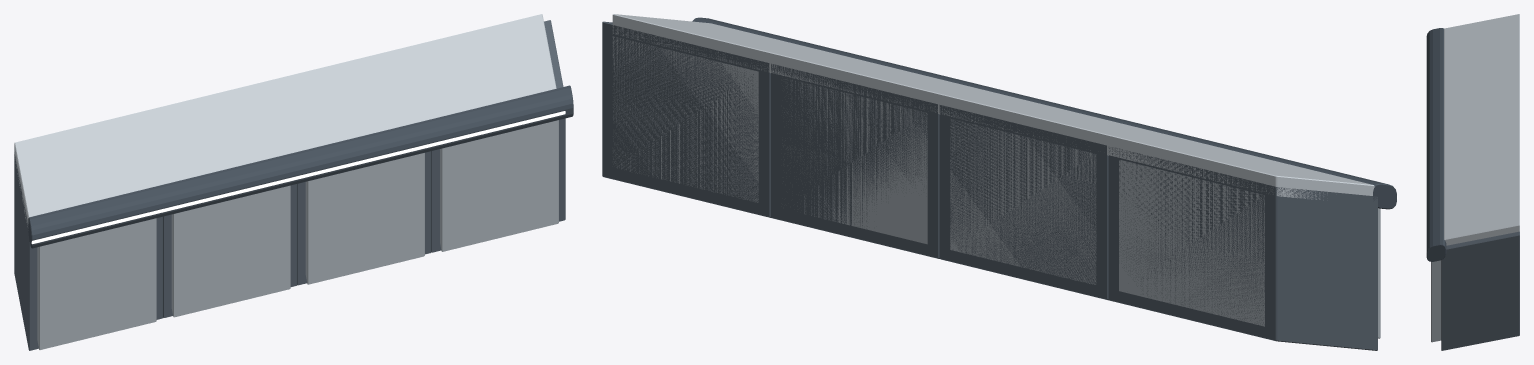
File: Terrain_TopRun4R.gltf
3 renders of one model, left to right at view 1: azimuth 30°, elevation 25°; view 2: azimuth 150°, elevation 25°; view 3: azimuth 270°, elevation 25°, orthographic. The views are drawn at different scales.
Visible parts, largest first — view 1: Terrain_TopRun4R_baked; view 2: Terrain_TopRun4R_baked; view 3: Terrain_TopRun4R_baked.
Part boxes in pixels (left/top/right/bottom): Terrain_TopRun4R_baked: left=14, top=14, right=573, bottom=350; Terrain_TopRun4R_baked: left=602, top=14, right=1397, bottom=350; Terrain_TopRun4R_baked: left=1426, top=14, right=1519, bottom=350.
Bounding box in the file's own units: 4.29 × 1.18 × 0.74.
